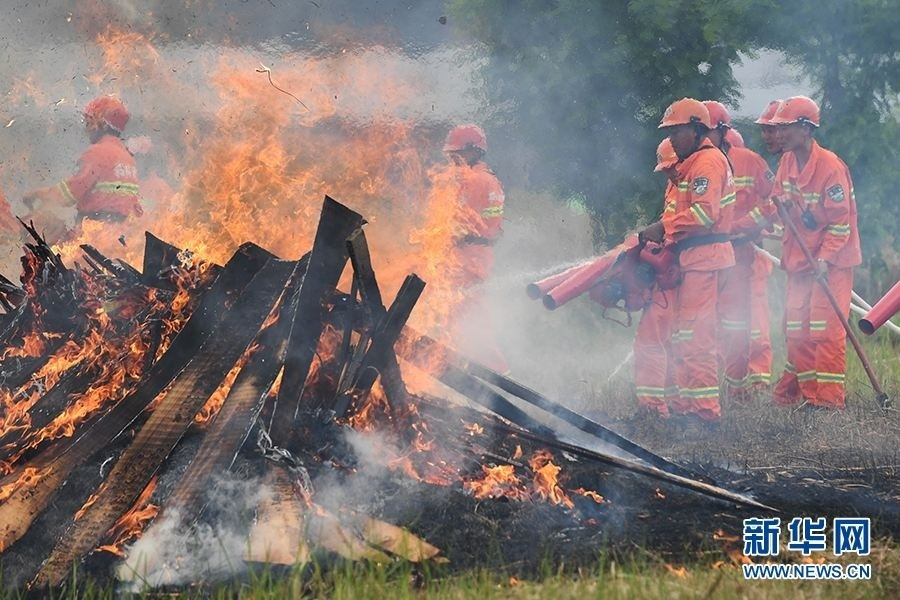fire: (4, 63, 515, 551)
